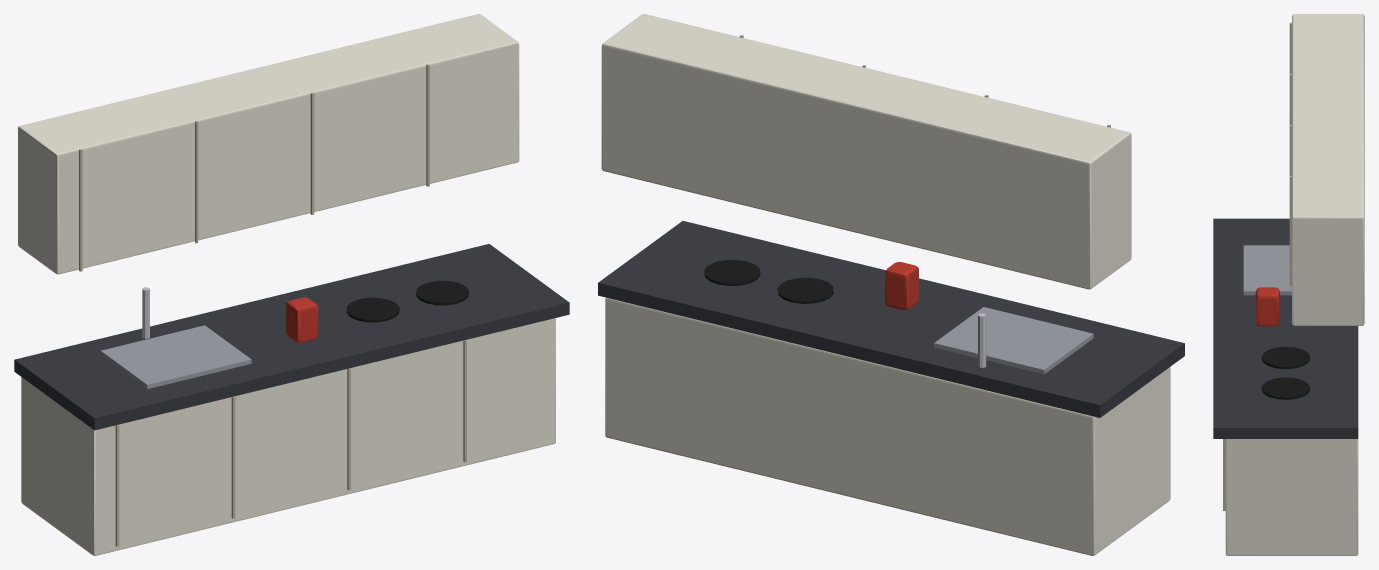
Rendered from kitchenette.glb.
3 renders of one model, left to right at view 1: azimuth 30°, elevation 25°; view 2: azimuth 150°, elevation 25°; view 3: azimuth 270°, elevation 25°, orthographic. The views are drawn at different scales.
Parts seen in each view (by area): view 1: part-cabinet, part-worktop, part-steel, part-cabinet-line, part-hob, part-kettle; view 2: part-cabinet, part-worktop, part-steel, part-hob, part-kettle; view 3: part-cabinet, part-worktop, part-steel, part-hob, part-cabinet-line, part-kettle.
Part boxes in pixels (x1,y1,x2,y2): part-cabinet: [18, 14, 555, 555]; part-worktop: [14, 244, 569, 430]; part-steel: [100, 325, 251, 388]; part-cabinet-line: [79, 64, 466, 546]; part-hob: [346, 280, 468, 322]; part-kettle: [286, 297, 317, 342]; part-cabinet: [601, 14, 1170, 555]; part-worktop: [598, 221, 1184, 417]; part-steel: [934, 307, 1093, 374]; part-hob: [704, 259, 833, 303]; part-kettle: [885, 262, 918, 309]; part-cabinet: [1225, 14, 1364, 555]; part-worktop: [1213, 218, 1358, 438]; part-steel: [1243, 245, 1291, 295]; part-hob: [1261, 346, 1309, 399]; part-cabinet-line: [1223, 22, 1291, 510]; part-kettle: [1255, 287, 1279, 326].
Size of the model in its own units: 82 by 62 by 25.
